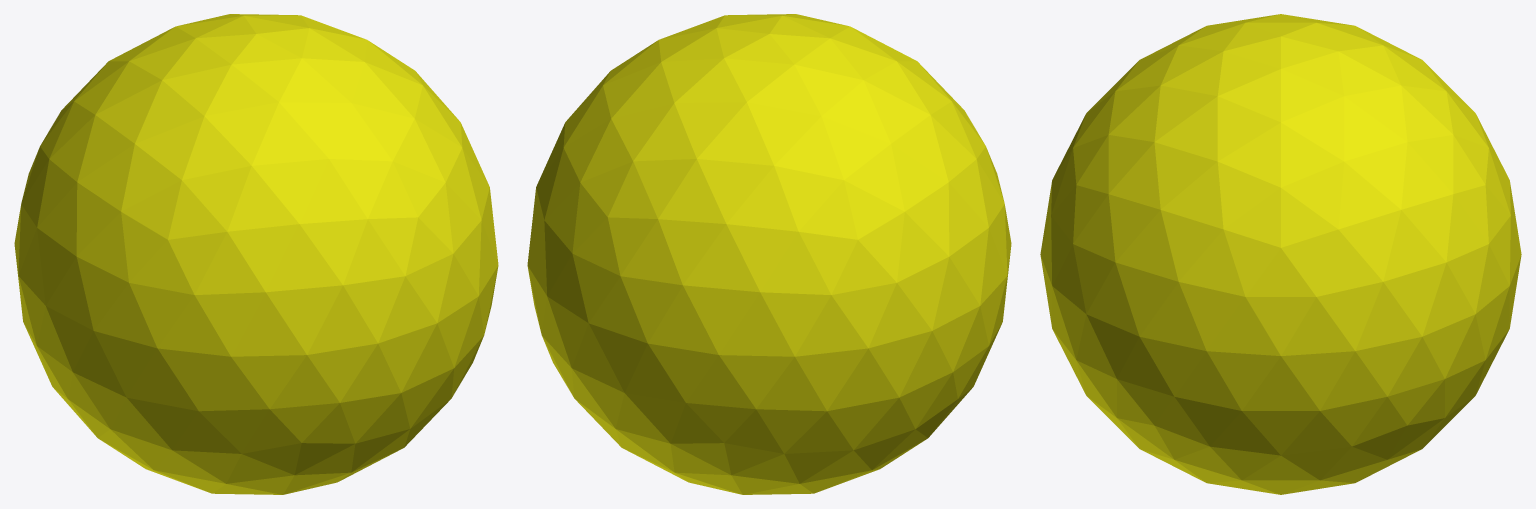
Rendered from seg.glb.
3 views of the same model, side by side, from view 1: azimuth 30°, elevation 25°; view 2: azimuth 150°, elevation 25°; view 3: azimuth 270°, elevation 25° (orthographic).
Visible parts, largest first — view 1: Icosphere.002; view 2: Icosphere.002; view 3: Icosphere.002.
Part boxes in pixels (x1=…): Icosphere.002: x1=14, y1=14, x2=498, y2=494; Icosphere.002: x1=527, y1=14, x2=1011, y2=494; Icosphere.002: x1=1040, y1=14, x2=1521, y2=494.
Size of the model in its own units: 2 by 2 by 2.
